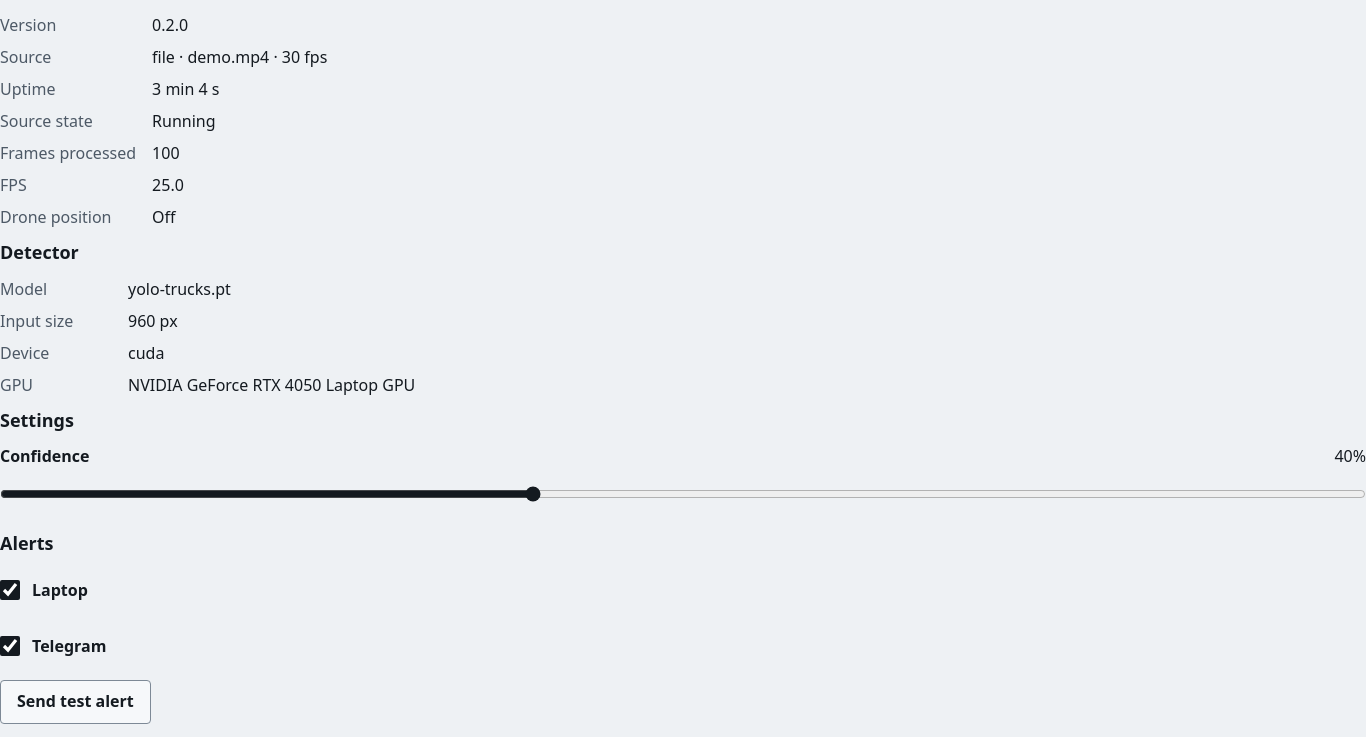
it: send test alert with nothing switched on, and with an error
The width and height of the screenshot is (1366, 737).
Click the button "Send test alert": (75, 702) [0,680,151,724]
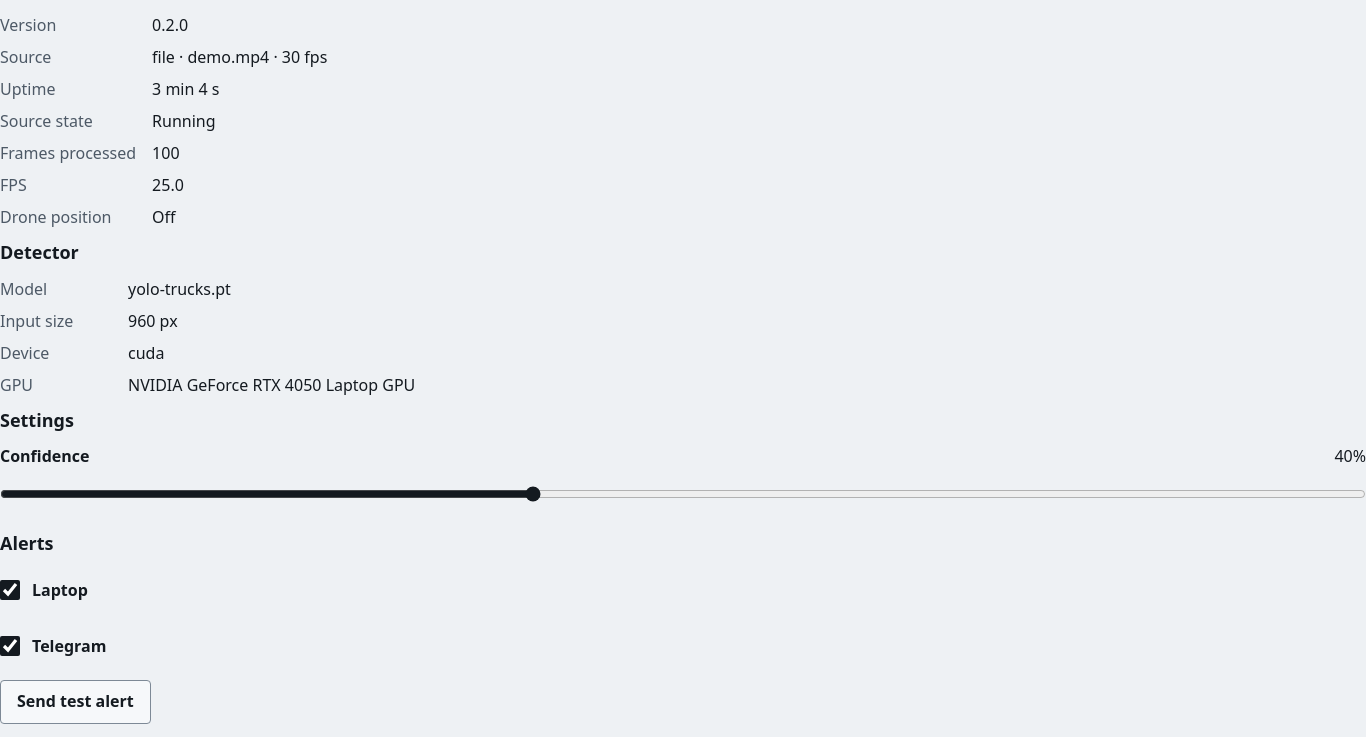
Click the button "Send test alert": (75, 702) [0,680,151,724]
(page scrolled)
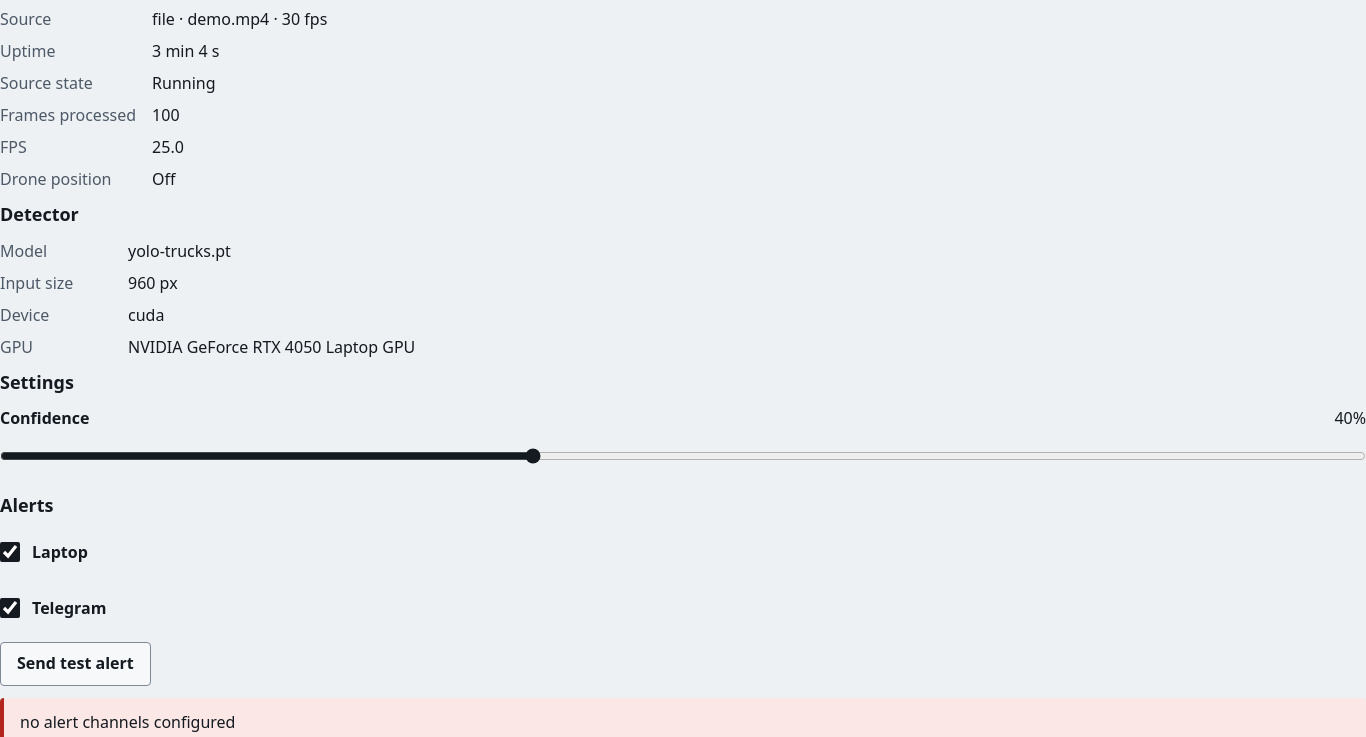
expect the message reads "no alert channels configured": met, box [20,711,236,733]
